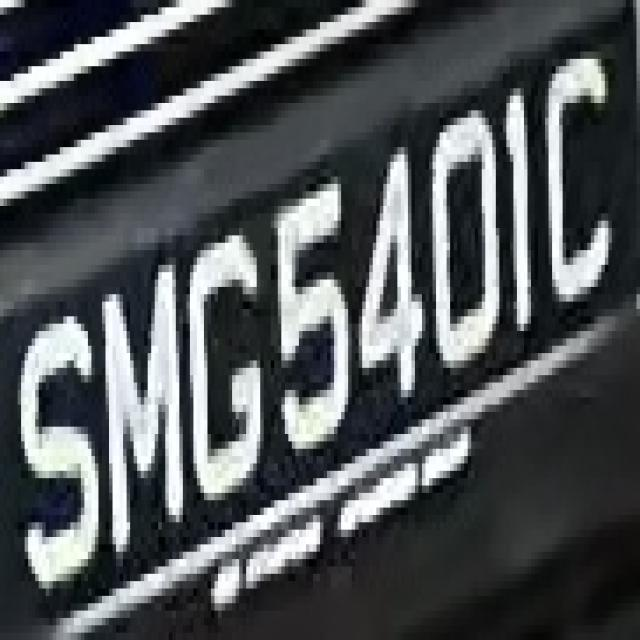0: (411, 118, 510, 382)
1: (499, 66, 531, 368)
4: (344, 103, 426, 441)
5: (267, 162, 348, 463)
C: (528, 37, 616, 331)
G: (169, 220, 271, 508)
M: (95, 258, 186, 566)
S: (18, 302, 95, 603)
